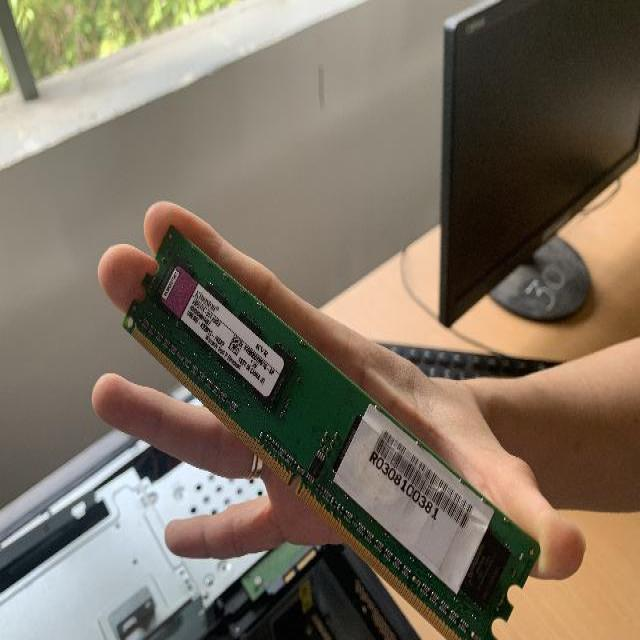RAM: (117, 218, 542, 640)
